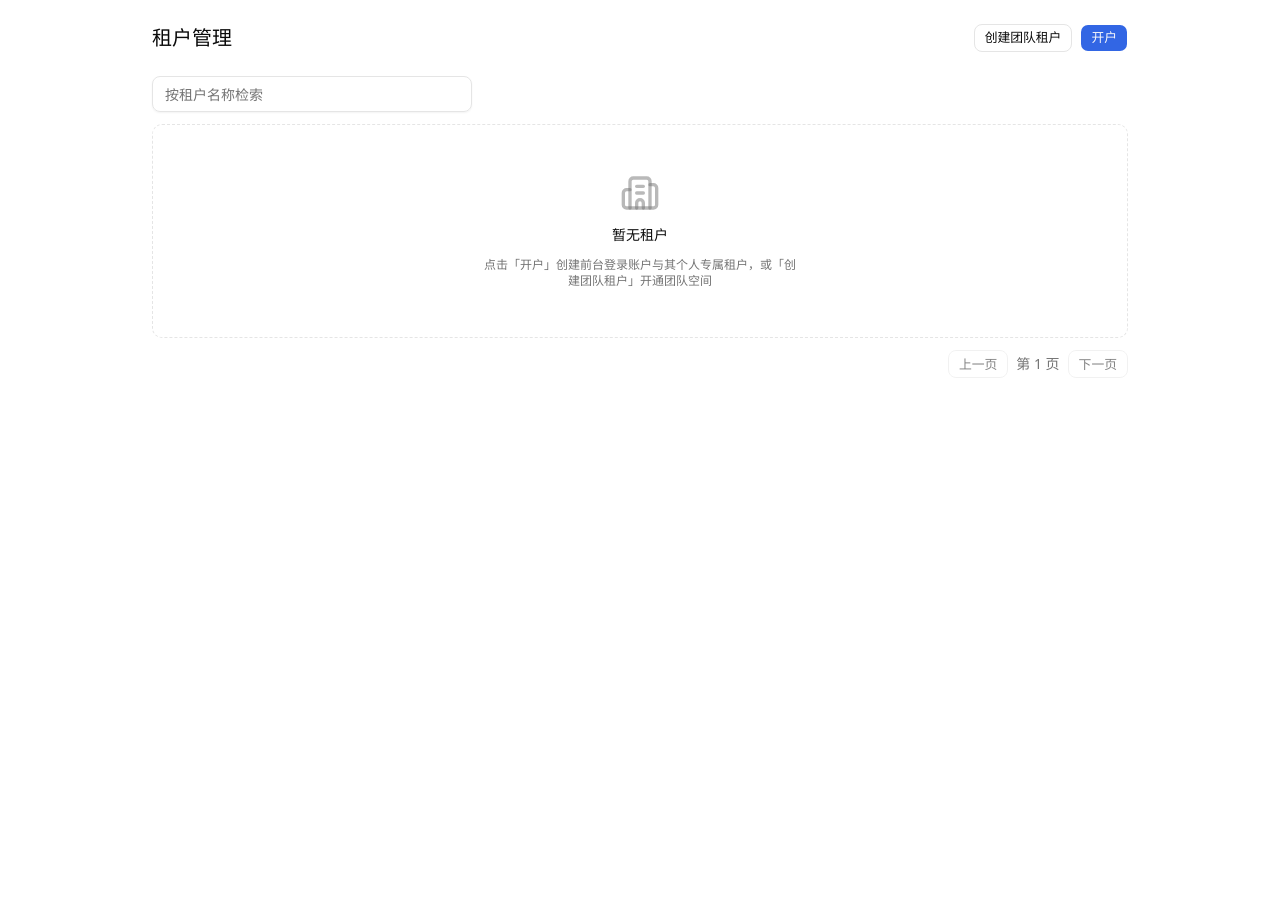
it: TenantsPage › 开户表单本地校验用户名长度 2-20
Click the button "开户" at [1104, 38], box x1=1080 y1=24 x2=1128 y2=52
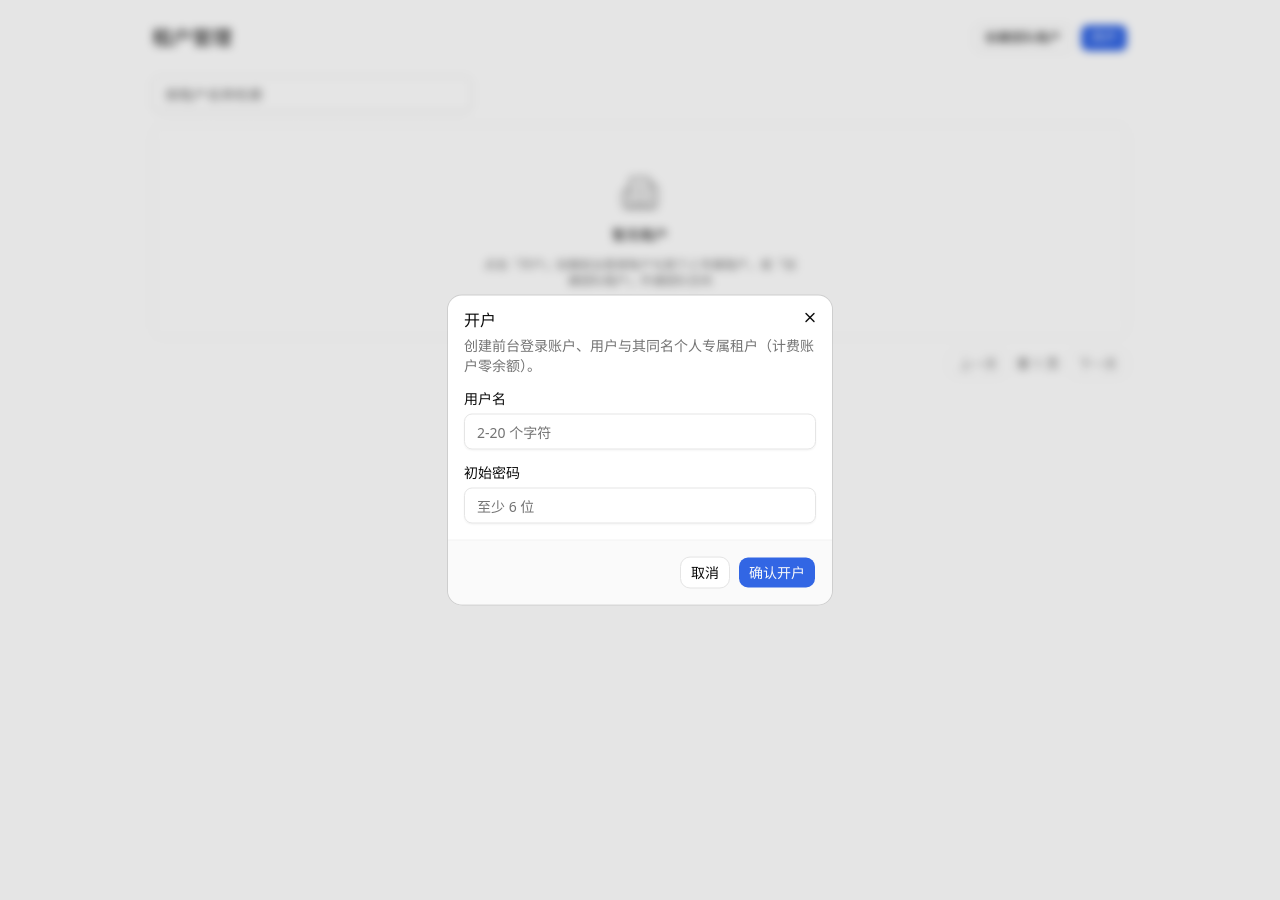
Type "a" into the field labelled "用户名" at [640, 432], box x1=464 y1=414 x2=816 y2=450
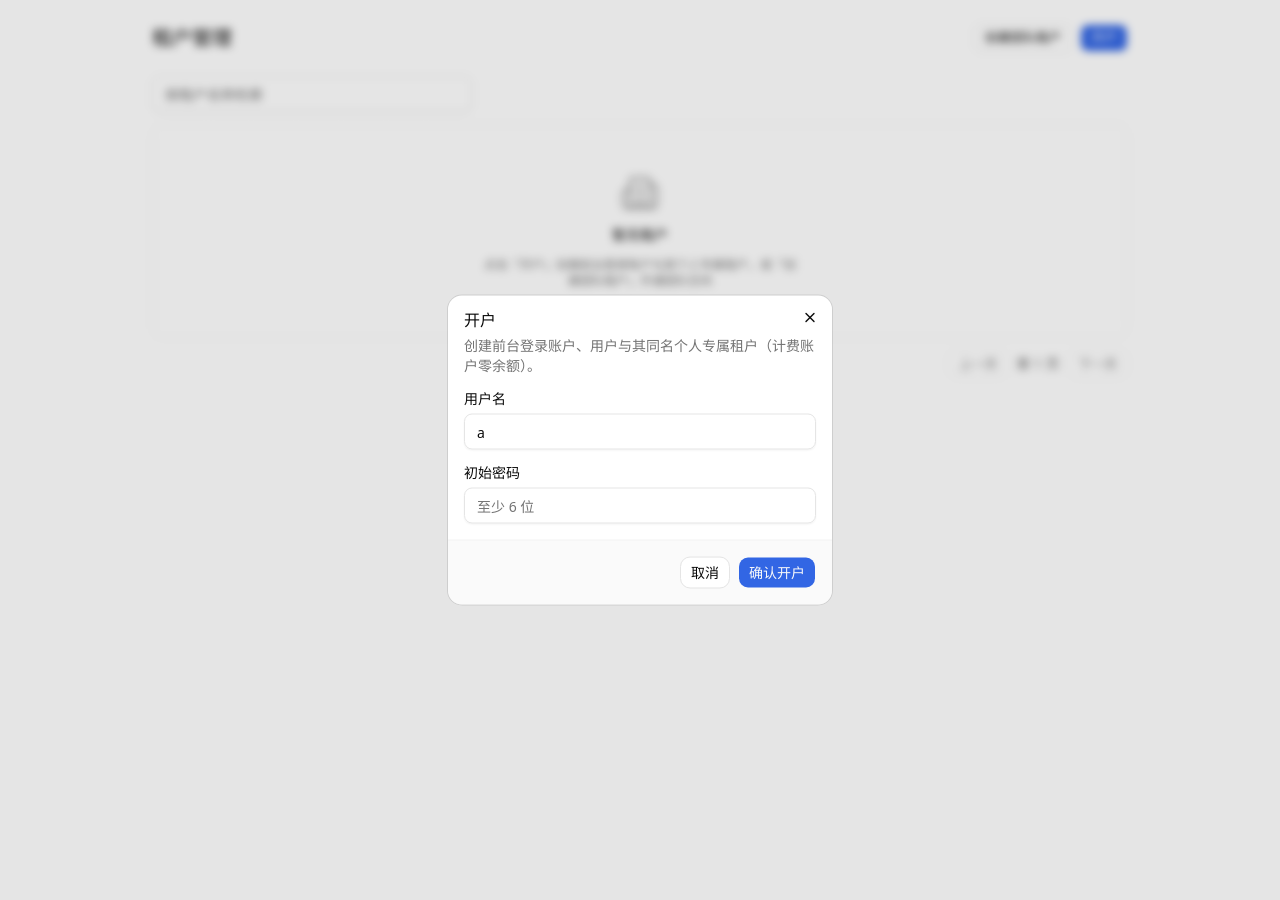
Type "123456" into the password field labelled "初始密码" at [640, 506], box x1=464 y1=488 x2=816 y2=524
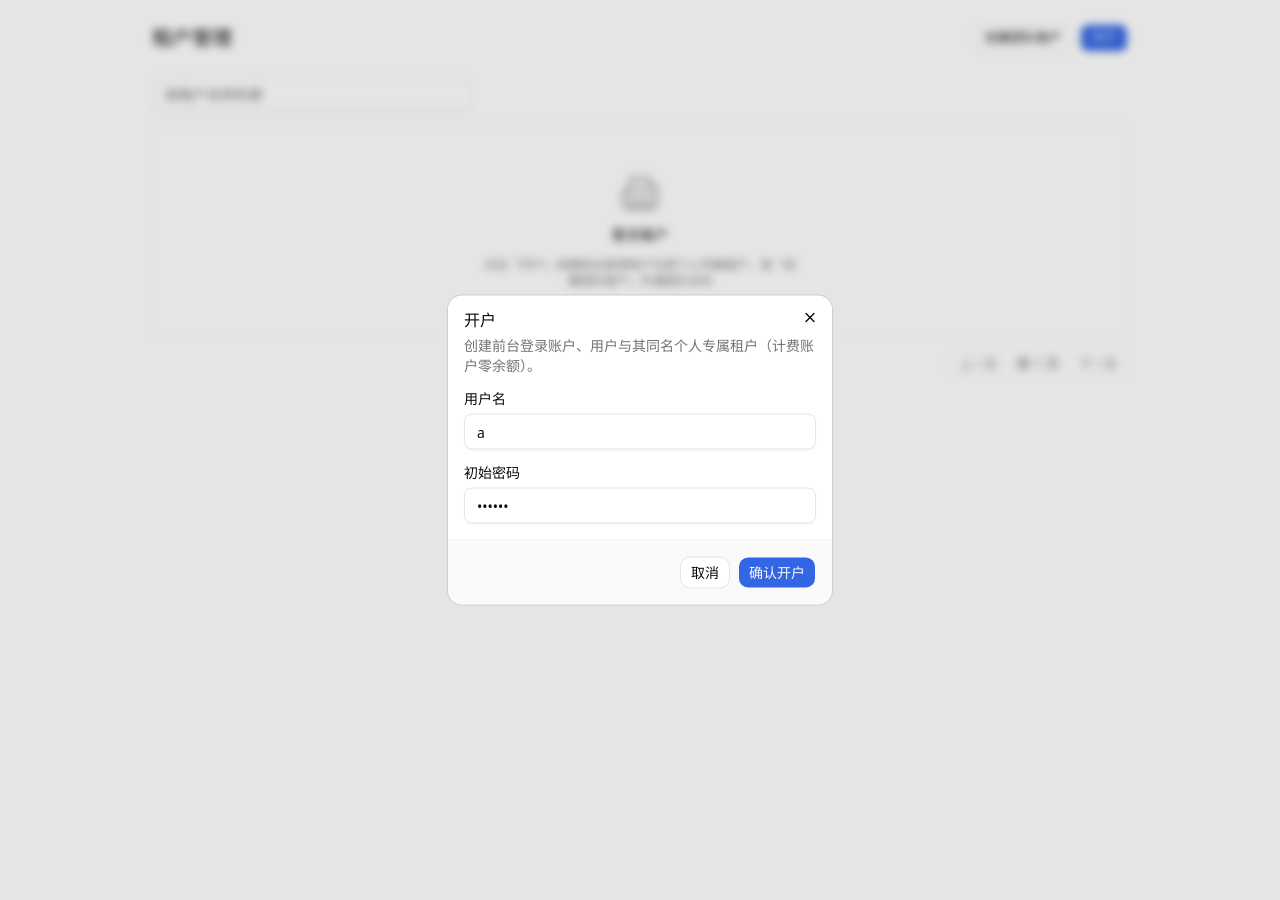
Click the button "确认开户" at [777, 572], box x1=738 y1=556 x2=816 y2=588
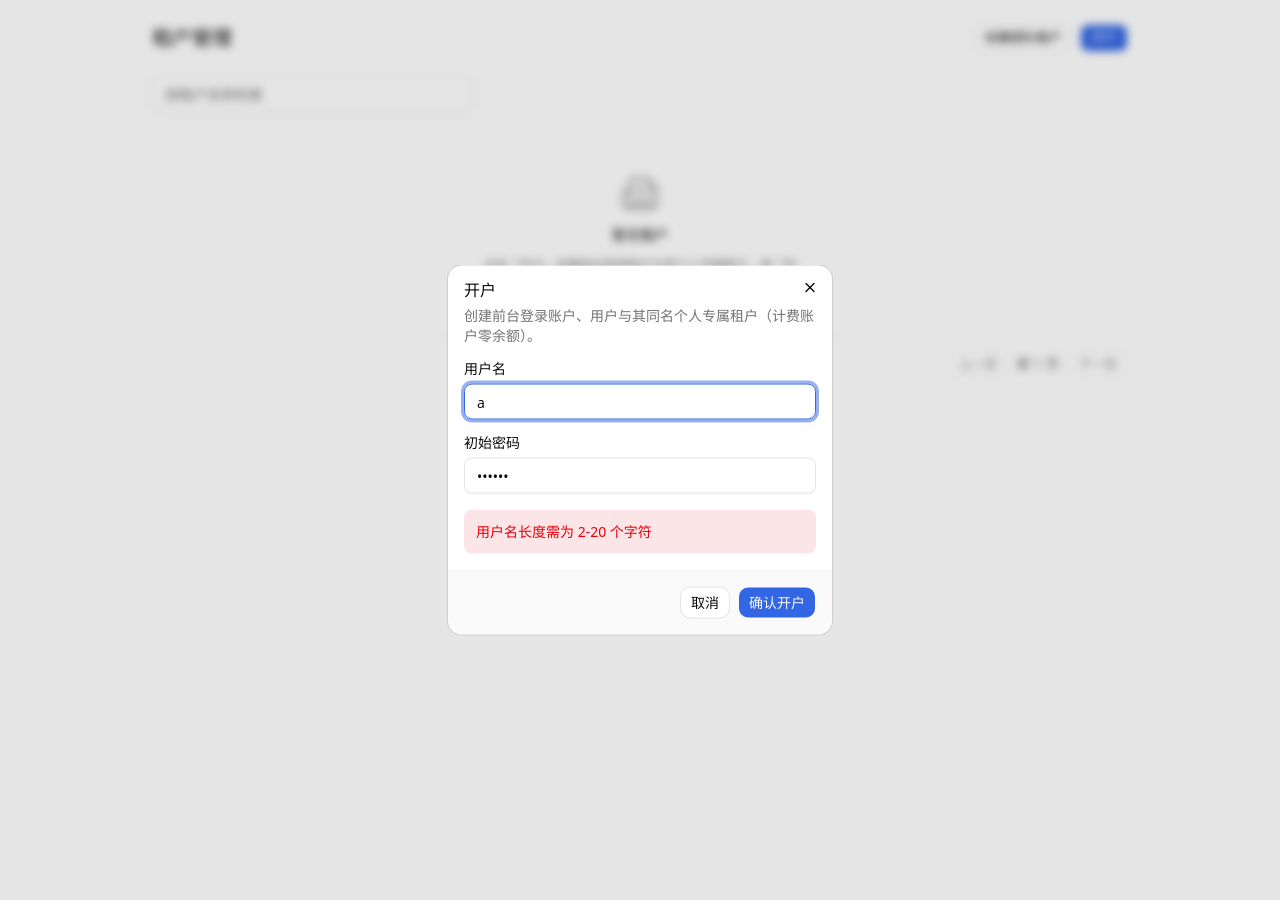
Result: the message reads "用户名长度需为 2-20 个字符" at x1=476 y1=522 x2=652 y2=540
